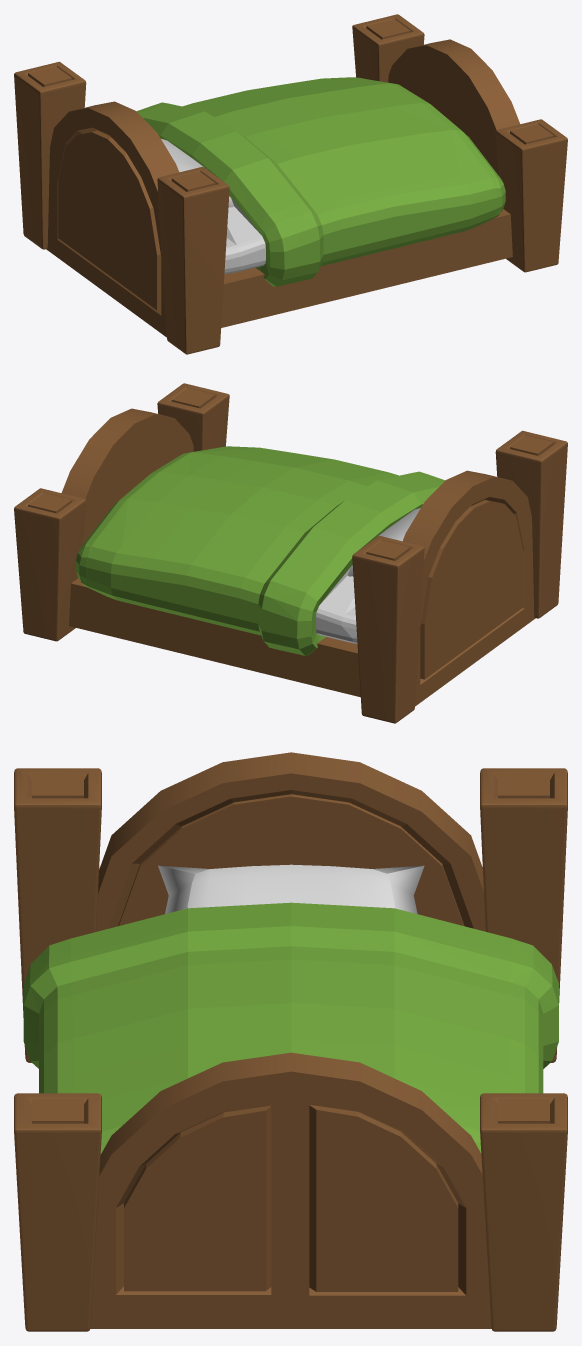
The model's file is Bed.fbx.
3 renders of one model, top to bottom at view 1: azimuth 30°, elevation 25°; view 2: azimuth 150°, elevation 25°; view 3: azimuth 270°, elevation 25°, orthographic. The views are drawn at different scales.
Parts seen in each view (by area): view 1: polySurface5, pCube12, pCube13, polySurface6, polySurface4; view 2: polySurface5, pCube12, pCube13, polySurface6, polySurface4; view 3: pCube13, polySurface5, pCube12, polySurface4.
Part boxes in pixels (x1,y1,x2,y2): polySurface5: (136,77,505,286); pCube12: (14,61,229,354); pCube13: (352,14,567,272); polySurface6: (221,209,512,327); polySurface4: (161,139,233,207); polySurface5: (76,446,444,655); pCube12: (352,430,567,723); pCube13: (14,383,229,641); polySurface6: (69,578,360,696); polySurface4: (347,508,420,576); pCube13: (14,1052,567,1331); polySurface5: (23,902,558,1154); pCube12: (14,752,567,1062); polySurface4: (158,864,424,913).
Bounding box in the file's own units: 8.28 × 3.66 × 6.34.
